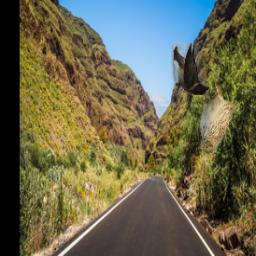Sparrow: (198, 84, 242, 155)
Swallow: (172, 43, 210, 95)
